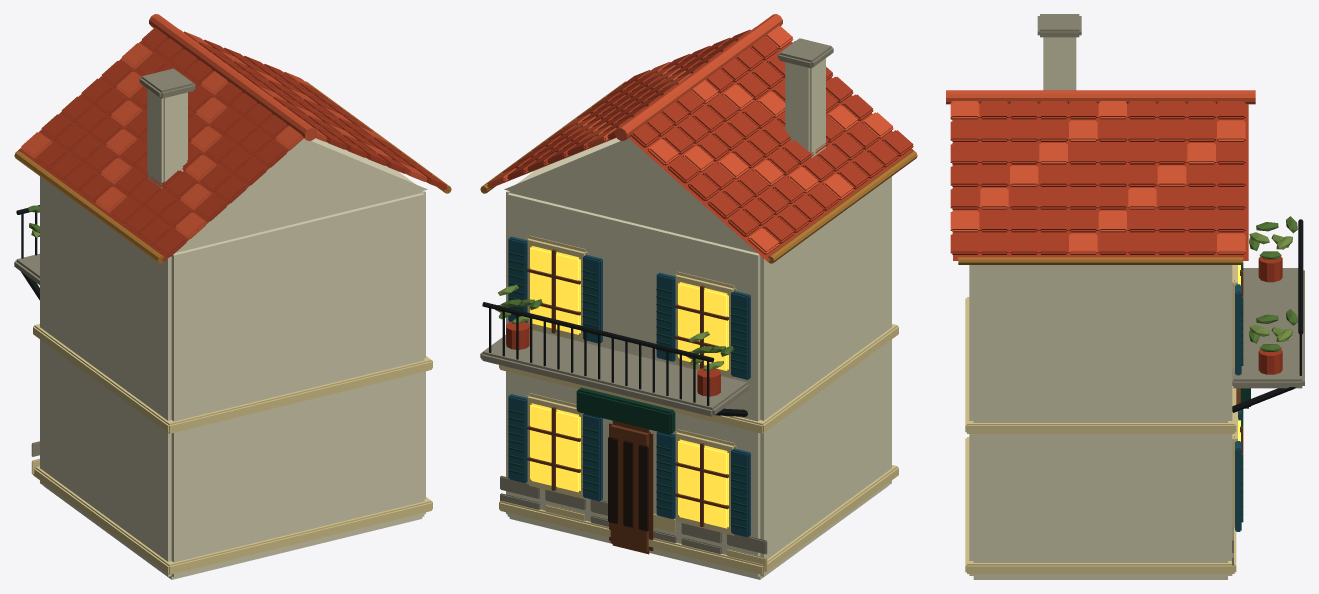
The model's file is townhouse_0.glb.
3 renders of one model, left to right at view 1: azimuth 30°, elevation 25°; view 2: azimuth 150°, elevation 25°; view 3: azimuth 270°, elevation 25°, orthographic.
Parts seen in each view (by area): view 1: Seaside townhouseMesh; view 2: Seaside townhouseMesh; view 3: Seaside townhouseMesh.
Part boxes in pixels (x1,y1,x2,y2): Seaside townhouseMesh: [14, 14, 451, 579]; Seaside townhouseMesh: [480, 14, 917, 579]; Seaside townhouseMesh: [946, 14, 1304, 579].
Bounding box in the file's own units: 6.15 × 9.18 × 6.55.
